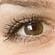eye: (24, 22, 43, 35)
